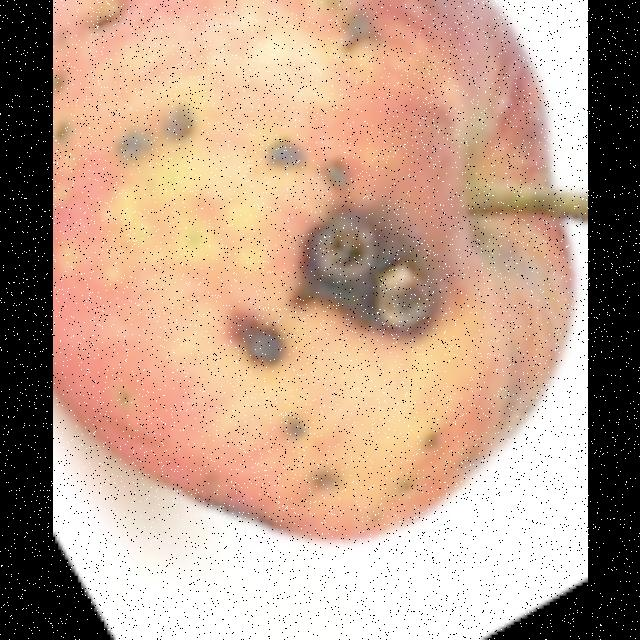Apel Tidak Segar: (52, 0, 578, 545)
